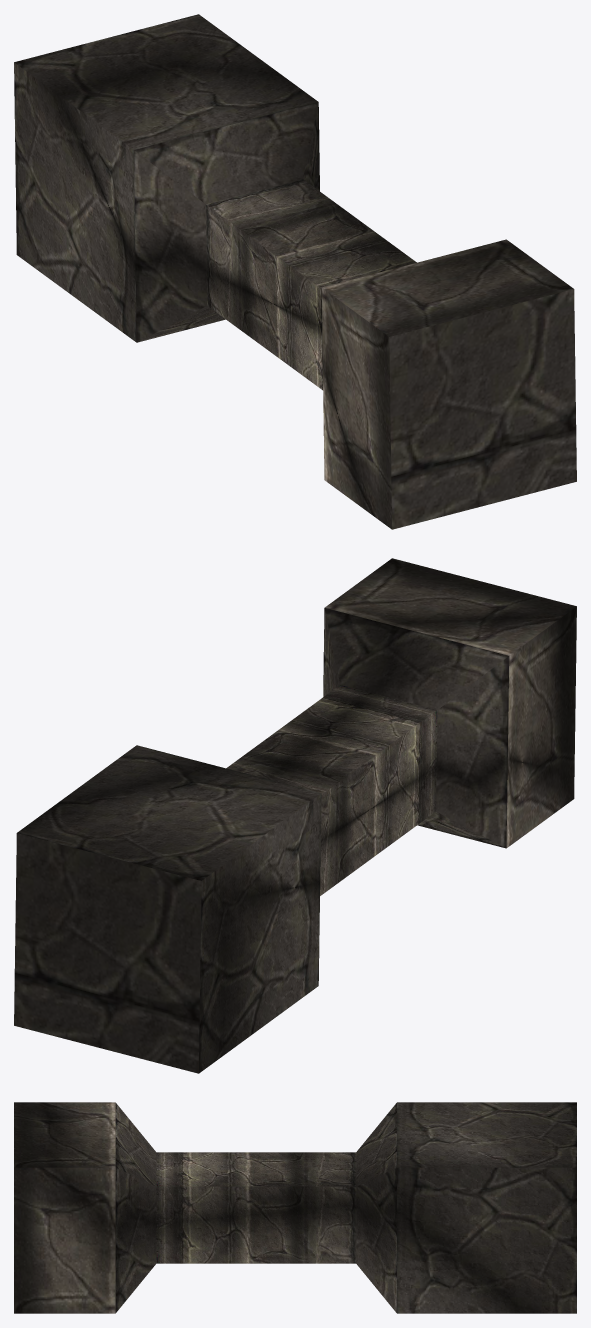
The model's file is column-B_05.obj.
3 renders of one model, top to bottom at view 1: azimuth 30°, elevation 25°; view 2: azimuth 150°, elevation 25°; view 3: azimuth 270°, elevation 25°, orthographic. The views are drawn at different scales.
Visible parts, largest first — view 1: (null); view 2: (null); view 3: (null).
Boxes of the visible parts, x1,y1,x2,y2 form: (null): (14, 14, 576, 529); (null): (14, 558, 576, 1073); (null): (14, 1102, 576, 1313).
Bounding box in the file's own units: 1.26 × 1.26 × 4.38.
